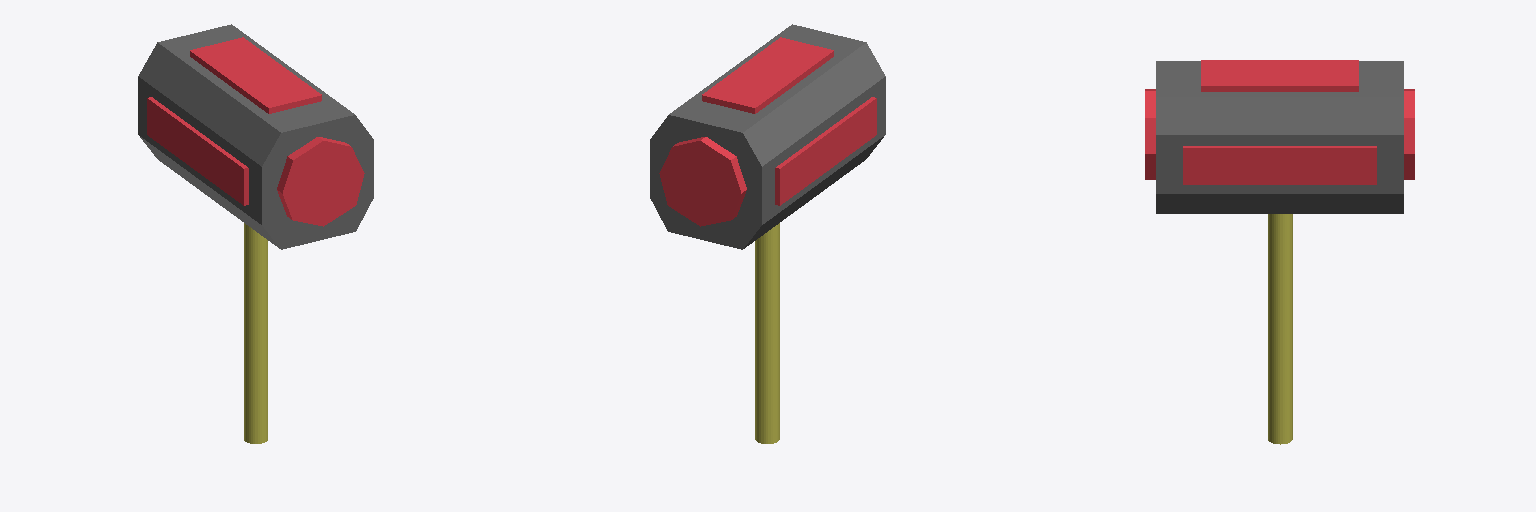
3 views of the same model, side by side, from view 1: azimuth 30°, elevation 25°; view 2: azimuth 150°, elevation 25°; view 3: azimuth 270°, elevation 25° (orthographic).
Visible parts, largest first — view 1: hammer; view 2: hammer; view 3: hammer.
Part boxes in pixels (x1,y1,x2,y2): hammer: (138, 24, 373, 443); hammer: (650, 24, 885, 443); hammer: (1145, 60, 1414, 444).
Size of the model in its own units: 1.03 by 2.98 by 1.99.
Materials: 1 (1 with a texture image).